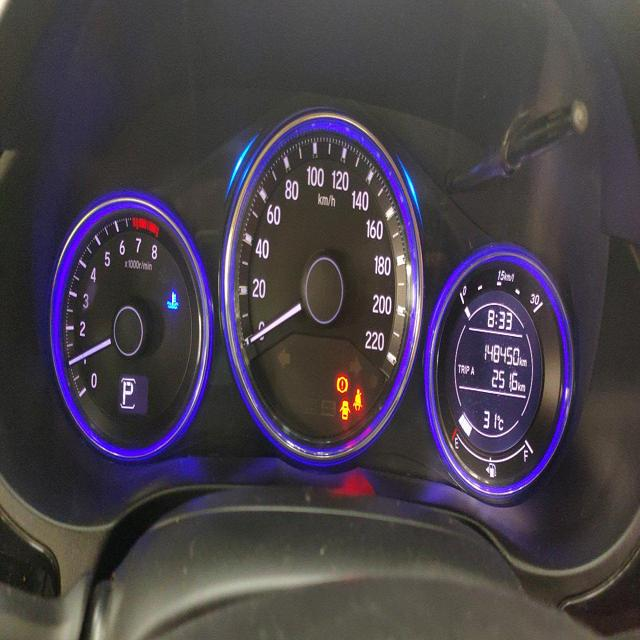odometer: (481, 338, 521, 368)
